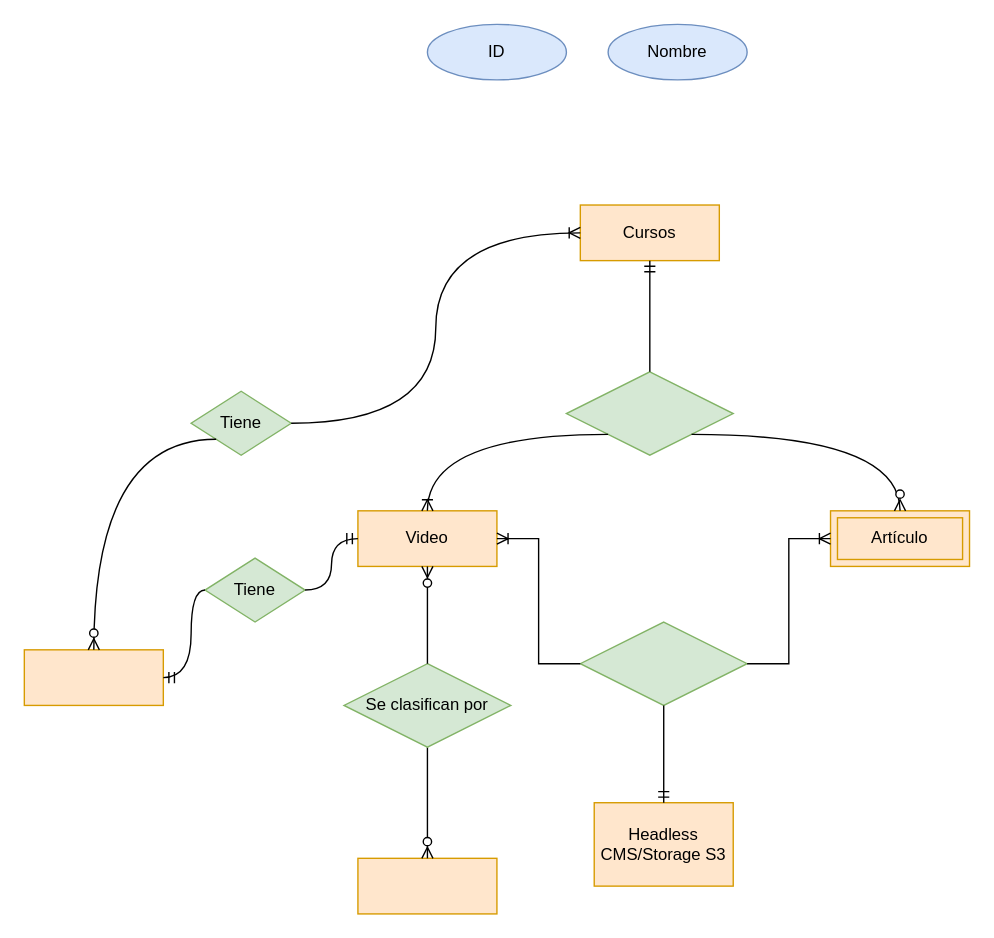
Some shapes in this 994 by 938 pixel diagram are drawn without their labels. The centre of each missing label's shape, as x and y in pixels:
Autores: point 93,676
Esta compuesto: point 649,412
Se almacenan: point 663,663
Temática: point 427,885
